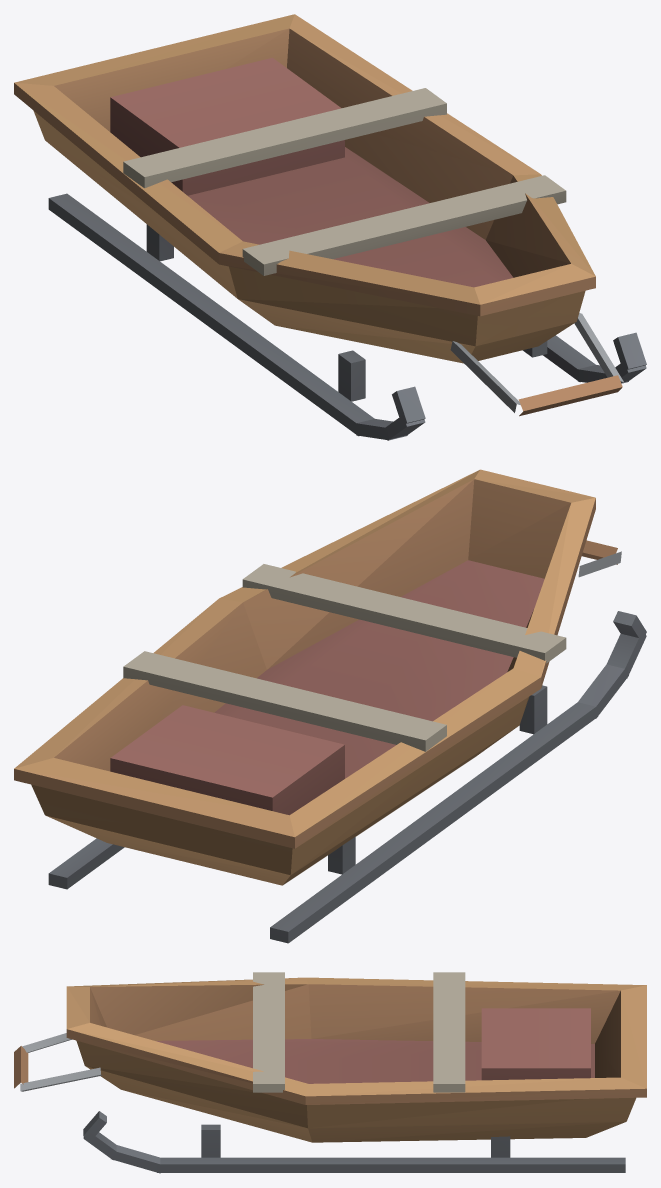
The model's file is akja.lod1.glb.
The picture shows the model from 3 angles, top to bottom: view 1: azimuth 30°, elevation 25°; view 2: azimuth 150°, elevation 25°; view 3: azimuth 270°, elevation 25°; orthographic projection. The views are drawn at different scales.
Bounding box in the file's own units: 0.8736 × 0.4266 × 1.97.
